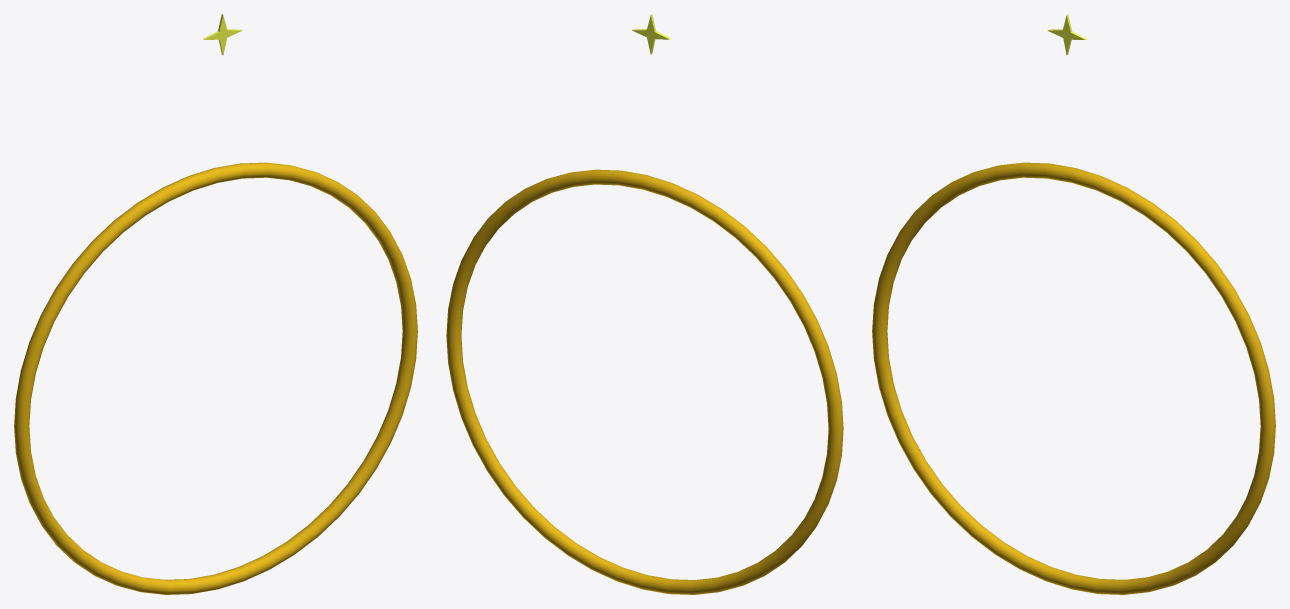
File: rings.glb
3 views of the same model, side by side, from view 1: azimuth 30°, elevation 25°; view 2: azimuth 150°, elevation 25°; view 3: azimuth 330°, elevation 25° (orthographic).
Parts seen in each view (by area): view 1: Torus.001; view 2: Torus.001; view 3: Torus.001.
Part boxes in pixels (x1,y1,x2,y2): Torus.001: [14, 162, 417, 594]; Torus.001: [446, 169, 843, 594]; Torus.001: [872, 162, 1275, 594].
Size of the model in its own units: 8.43 by 11.62 by 0.4067.
